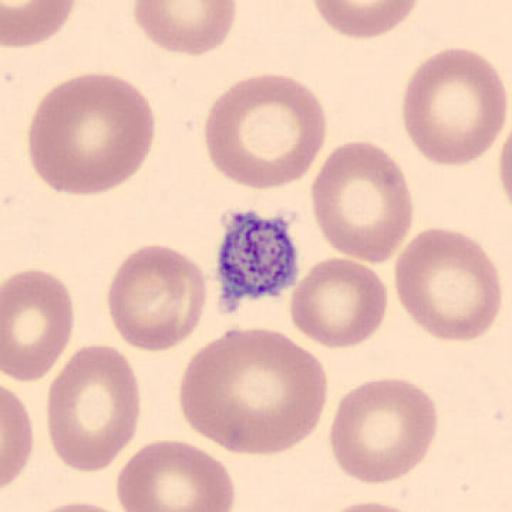Platelet: (213, 206, 302, 310)
RBC: (178, 326, 326, 457), (26, 71, 157, 198), (204, 72, 328, 192), (400, 45, 508, 168), (310, 139, 414, 266), (393, 226, 503, 344), (46, 342, 142, 473), (329, 376, 440, 486), (105, 242, 208, 353), (289, 255, 389, 350), (116, 437, 237, 512), (2, 267, 76, 383), (132, 0, 239, 58), (312, 0, 420, 39), (2, 0, 78, 47), (2, 384, 34, 490), (498, 118, 512, 208), (322, 500, 424, 512), (30, 500, 131, 512)
